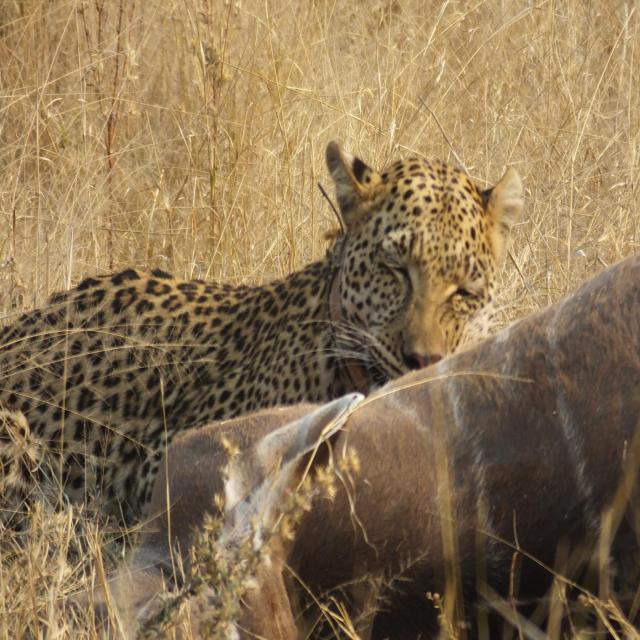Leopard: (11, 148, 498, 531)
